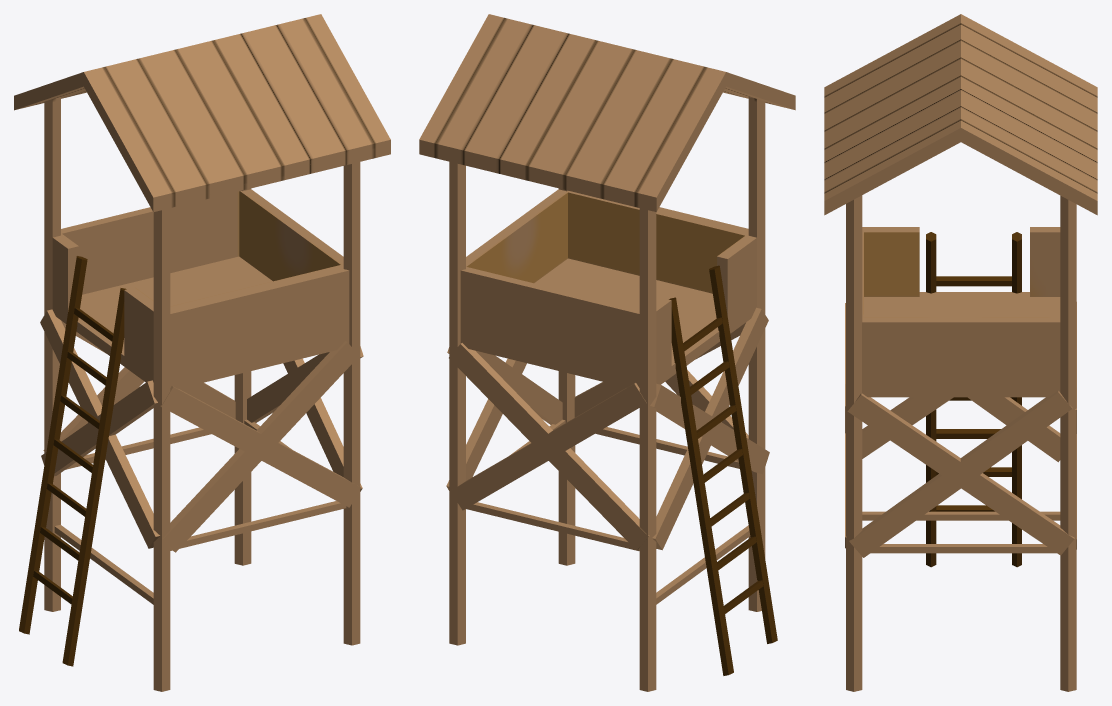
The model's file is Watchtower 1.fbx.
The picture shows the model from 3 angles, left to right: view 1: azimuth 30°, elevation 25°; view 2: azimuth 150°, elevation 25°; view 3: azimuth 270°, elevation 25°; orthographic projection.
Visible parts, largest first — view 1: Watchtower_1; view 2: Watchtower_1; view 3: Watchtower_1.
Part boxes in pixels (x1,y1,x2,y2): Watchtower_1: (14,14,390,691); Watchtower_1: (419,14,795,691); Watchtower_1: (824,14,1097,691).
Size of the model in its own units: 536 by 1089 by 472.
Materials: 1 (1 with a texture image).
